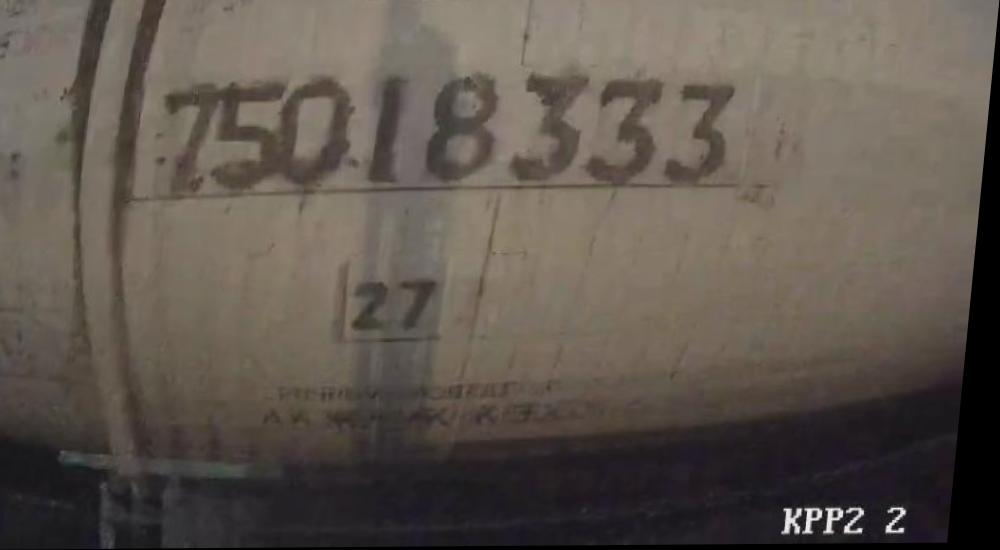Wagon-number: (152, 70, 746, 192)
